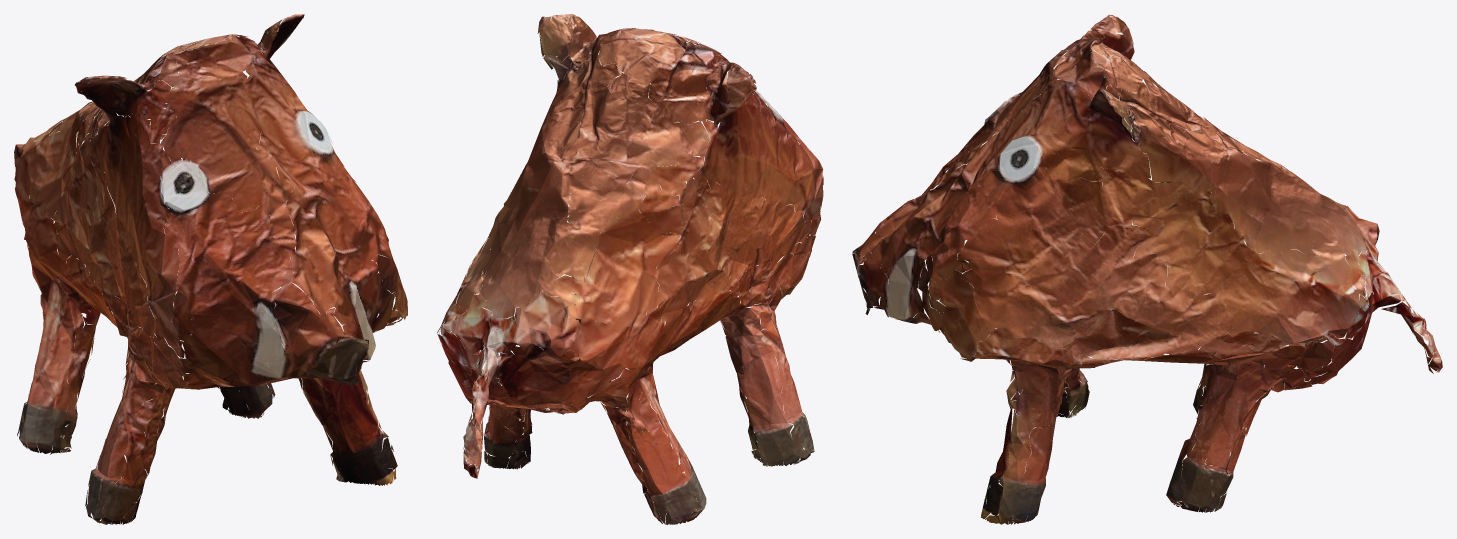
File: inoshi1-min_mt.glb
3 views of the same model, side by side, from view 1: azimuth 30°, elevation 25°; view 2: azimuth 150°, elevation 25°; view 3: azimuth 270°, elevation 25° (orthographic). The views are drawn at different scales.
Visible parts, largest first — view 1: mesh; view 2: mesh; view 3: mesh.
Part boxes in pixels (x1,y1,x2,y2): mesh: [14, 14, 407, 524]; mesh: [437, 14, 823, 524]; mesh: [852, 14, 1442, 524].
Bounding box in the file's own units: 0.2825 × 0.4139 × 0.541.
1 material, 1 textured.
